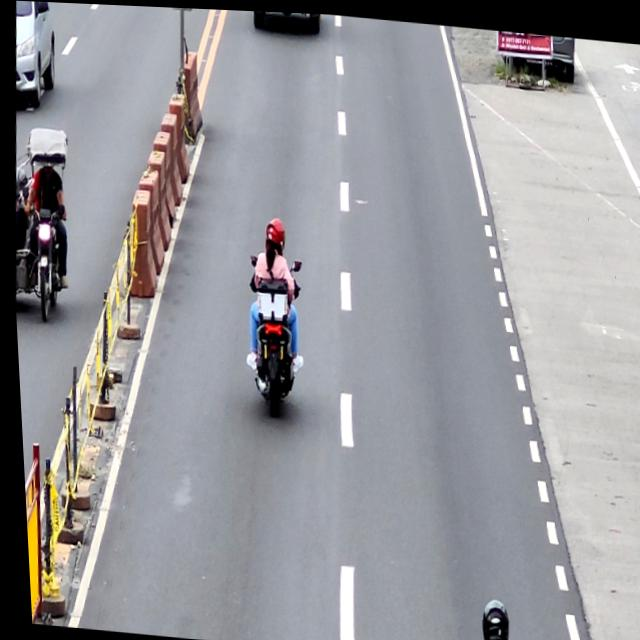Motorcycle: (239, 250, 306, 417)
